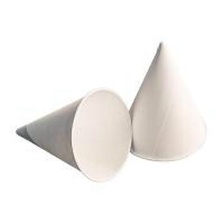paper_cup: (8, 84, 137, 186), (117, 34, 208, 166)
